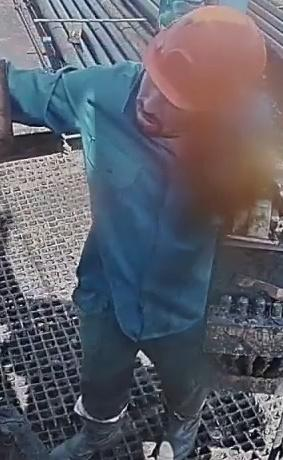helmet: (142, 4, 267, 112)
vest: (44, 63, 256, 342)
